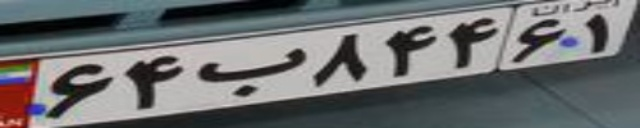1: (584, 11, 610, 53)
4: (122, 54, 185, 111), (384, 24, 436, 77), (450, 18, 498, 69)
6: (45, 62, 112, 118), (509, 18, 570, 64)
8: (310, 33, 369, 86)
be: (192, 47, 305, 97)
